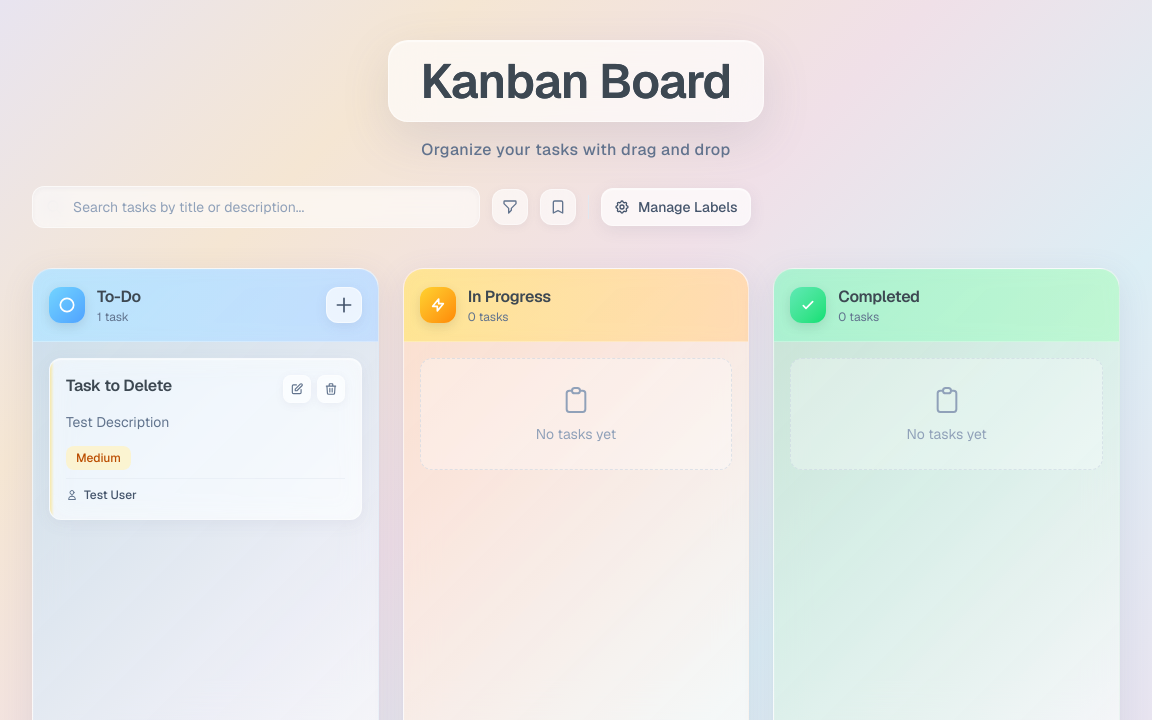
Scenario: Kanban Board Integration Tests › Delete Task Workflow › should delete a task and remove it from the board
This screenshot has width=1152, height=720.
Expected: the heading "Task to Delete" is shown, 66,375 -> 172,397
# Click delete button
Click the button named "delete task: task to delete" at [331, 389], box 317,375 -> 345,403
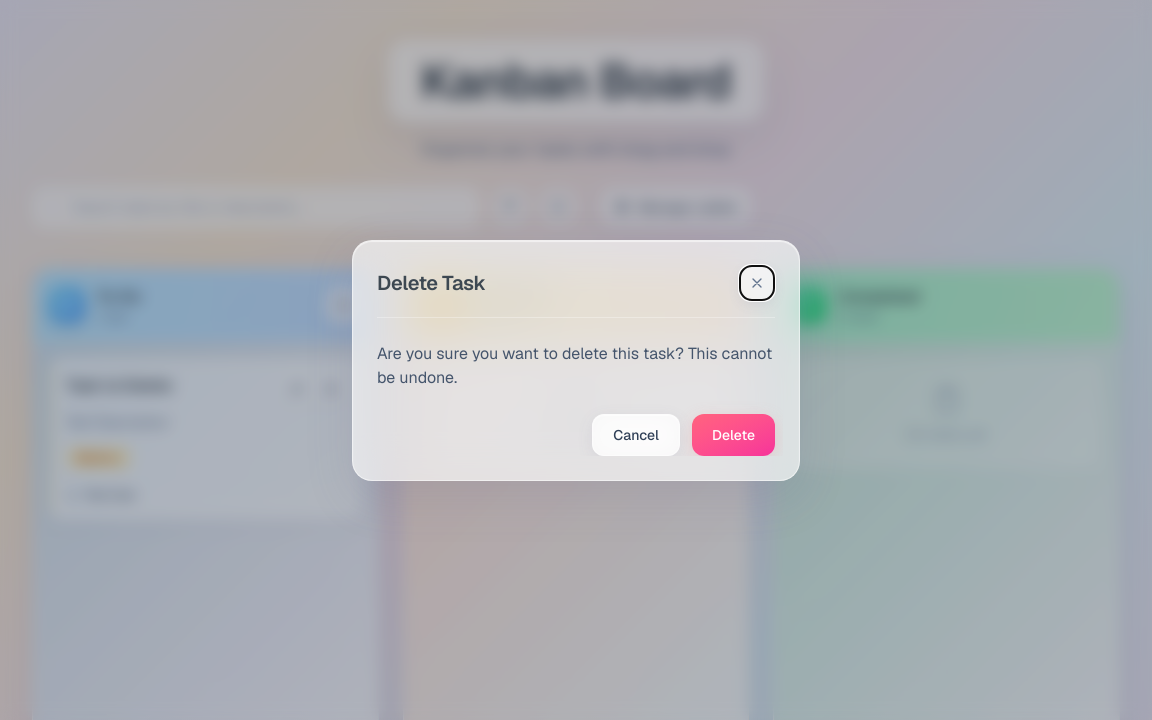
Expected: the text "Are you sure" is shown, 377,342 -> 772,388
Click the button with aria-label "confirm deletion" at [733, 434], box 692,414 -> 775,456
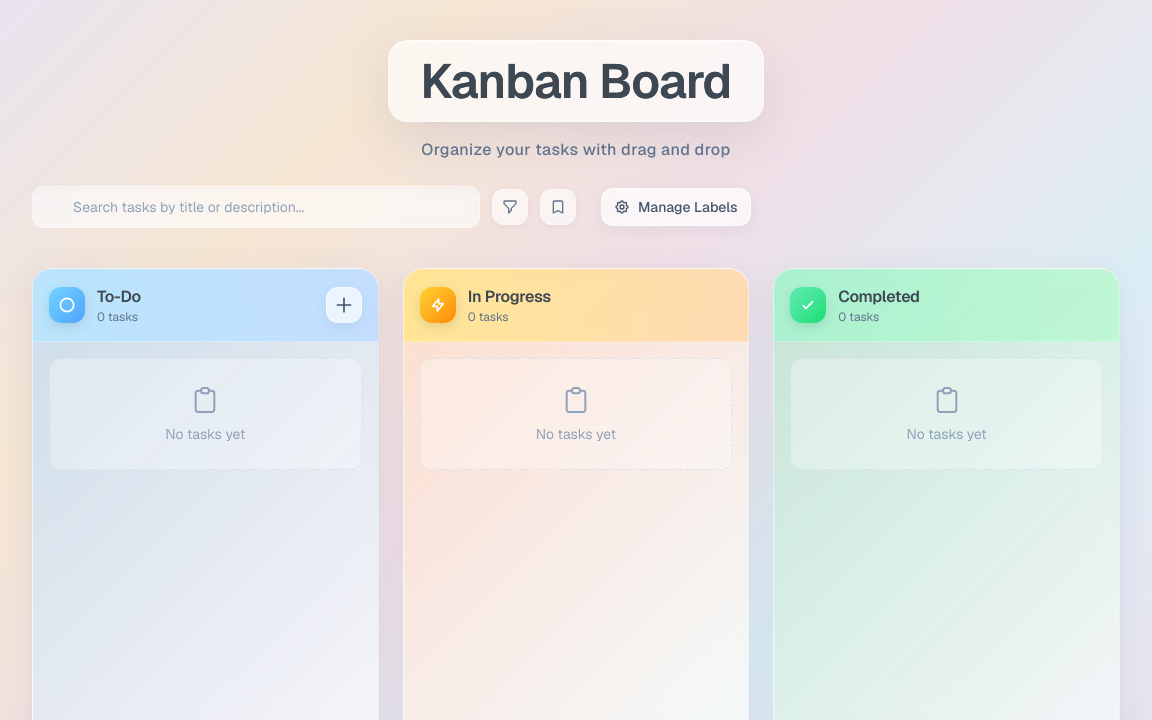
Expected: the button "Task to Delete" is gone
